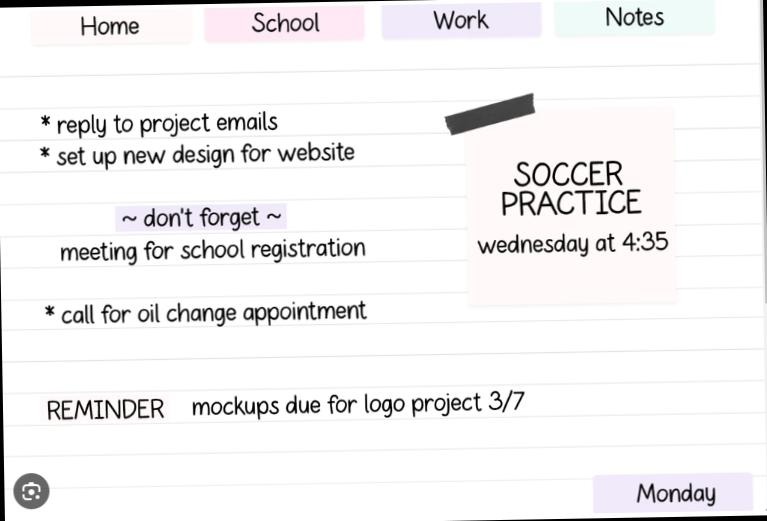text: (188, 387, 527, 423), (37, 138, 357, 173), (42, 297, 370, 330), (59, 234, 369, 268), (39, 108, 279, 141), (476, 227, 671, 260), (120, 202, 282, 234), (500, 187, 644, 217), (512, 157, 626, 189), (45, 394, 166, 424), (633, 480, 718, 510), (250, 8, 322, 34), (77, 13, 142, 39), (602, 3, 667, 29), (431, 7, 492, 33)
